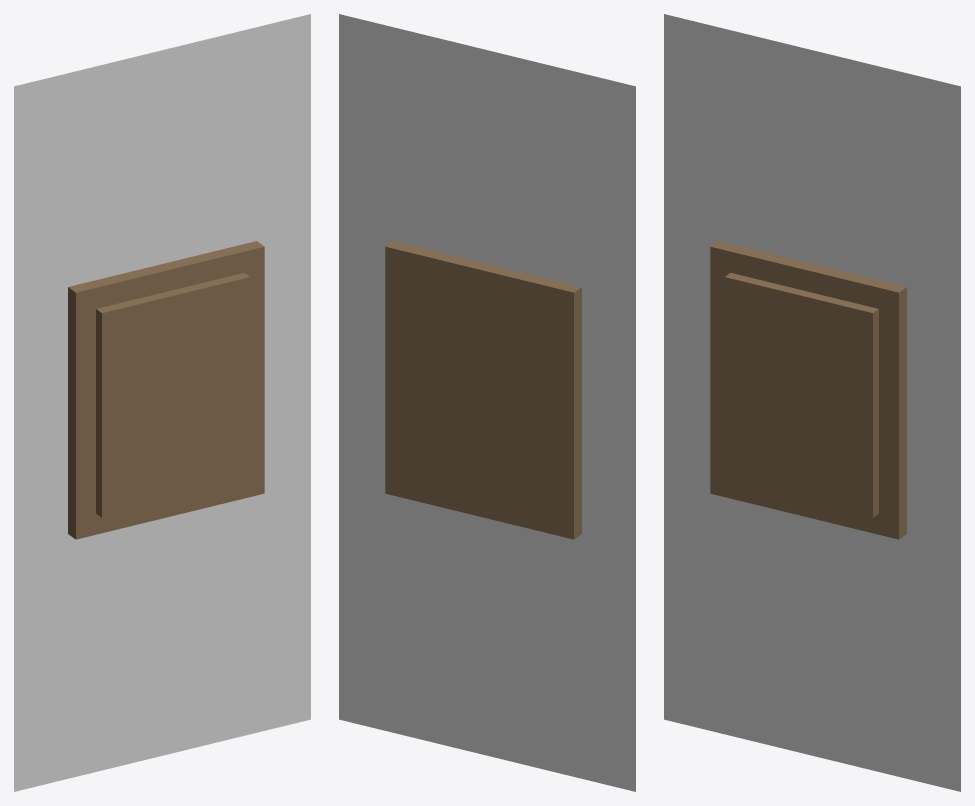
File: WallPicture_Virgin.fbx
3 renders of one model, left to right at view 1: azimuth 30°, elevation 25°; view 2: azimuth 150°, elevation 25°; view 3: azimuth 330°, elevation 25°, orthographic.
Visible parts, largest first — view 1: WallPicture_Virgin; view 2: WallPicture_Virgin; view 3: WallPicture_Virgin.
Boxes of the visible parts, x1,y1,x2,y2 form: WallPicture_Virgin: (14,14,310,791); WallPicture_Virgin: (339,14,635,791); WallPicture_Virgin: (664,14,960,791).
Bounding box in the file's own units: 44 × 100 × 5.5.
